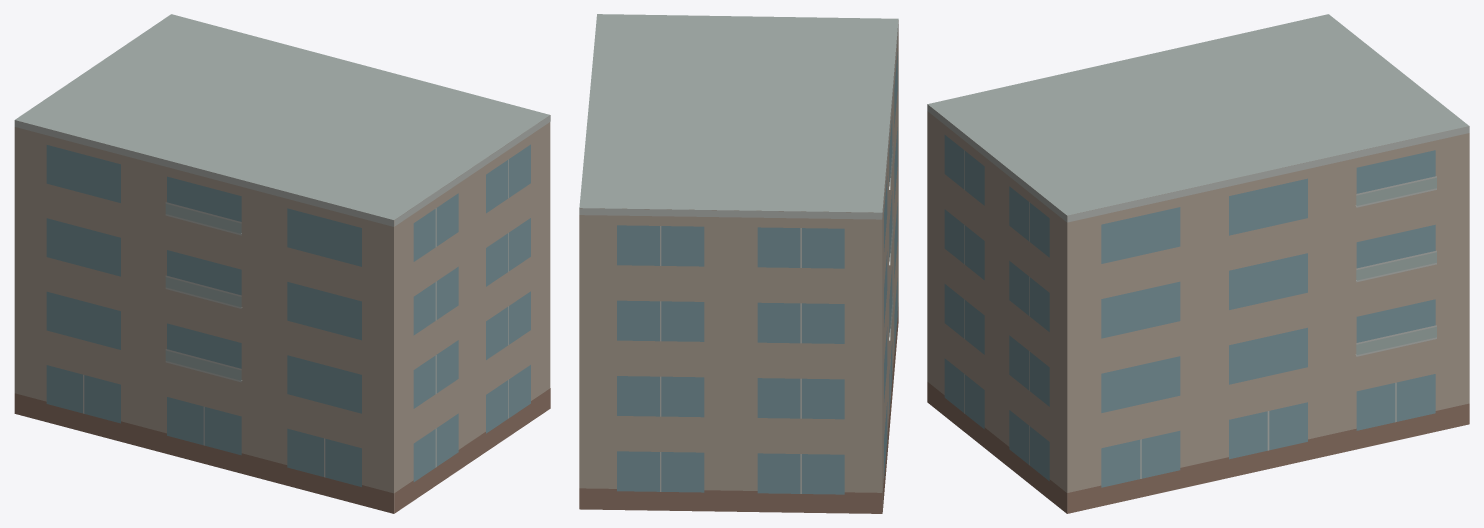
Rendered from survey-upis-32883461.glb.
3 views of the same model, side by side, from view 1: azimuth 30°, elevation 25°; view 2: azimuth 150°, elevation 25°; view 3: azimuth 270°, elevation 25° (orthographic). The views are drawn at different scales.
Visible parts, largest first — view 1: survey-upis-32883461.tmp; view 2: survey-upis-32883461.tmp; view 3: survey-upis-32883461.tmp.
Boxes of the visible parts, box(x1,y1,x2,y2) form: survey-upis-32883461.tmp: box(14, 14, 550, 513); survey-upis-32883461.tmp: box(579, 14, 898, 513); survey-upis-32883461.tmp: box(927, 14, 1469, 513).
Size of the model in its own units: 15.24 by 10.5 by 17.31.
